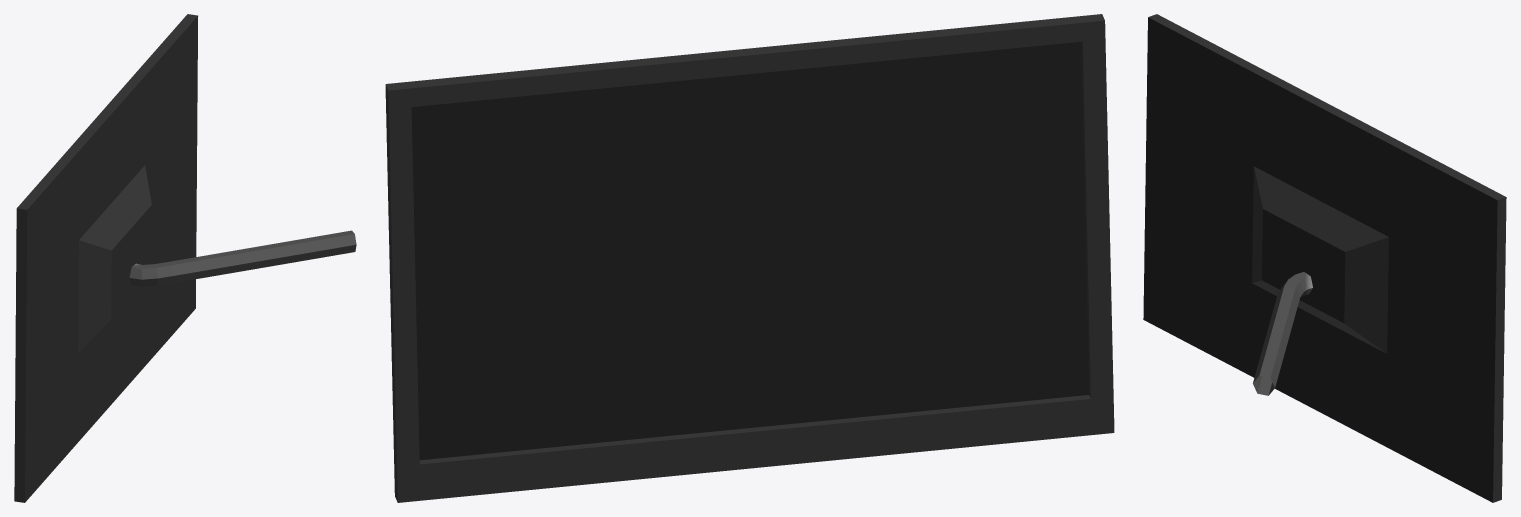
The model's file is Television_Izquierda_Escenario2.fbx.
The picture shows the model from 3 angles, left to right: view 1: azimuth 30°, elevation 25°; view 2: azimuth 150°, elevation 25°; view 3: azimuth 270°, elevation 25°; orthographic projection. The views are drawn at different scales.
Parts seen in each view (by area): view 1: TV_2_Dr; view 2: TV_2_Dr; view 3: TV_2_Dr.
Part boxes in pixels (box(x1,y1,x2,y2)): TV_2_Dr: box(14, 14, 356, 502); TV_2_Dr: box(385, 14, 1114, 502); TV_2_Dr: box(1143, 14, 1506, 502).
Size of the model in its own units: 119 by 86.39 by 90.19.
